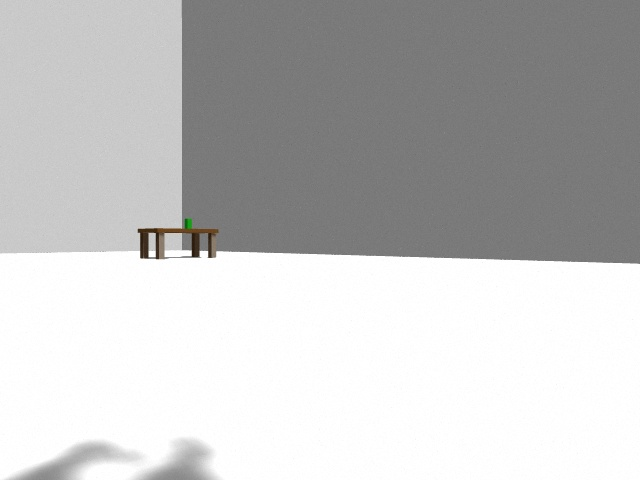green_cube: (185, 219, 192, 229)
